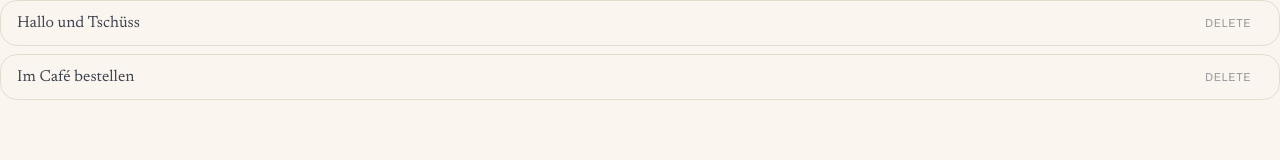
Test: asking first › says the thing that cannot be undone, before it cannot be undone
Click the button "Delete" in the row of "Hallo und Tschüss".
click(1228, 23)  # box 1193,11 -> 1263,35
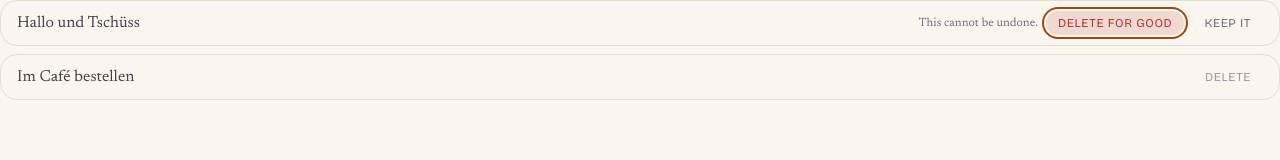
Expected: the text "This cannot be undone." is shown, 918,15 -> 1038,31
